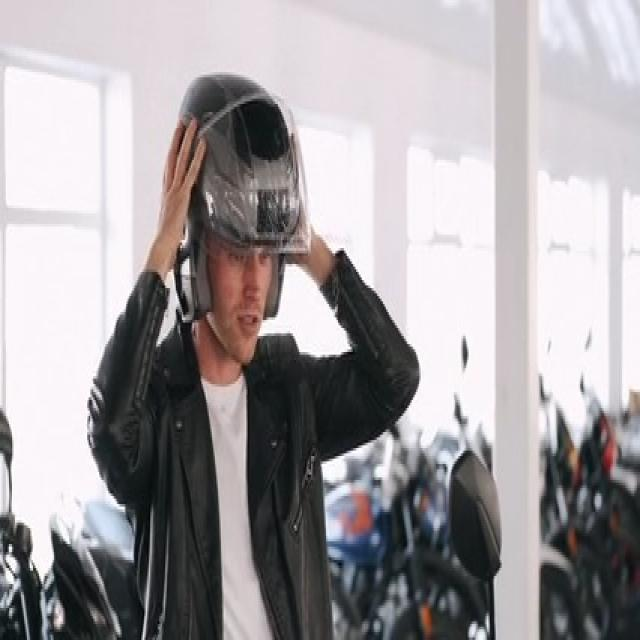Helmet_Wearer: (161, 67, 311, 371)
Jacket_Wearer: (84, 258, 410, 636)
Person: (78, 71, 421, 640)
